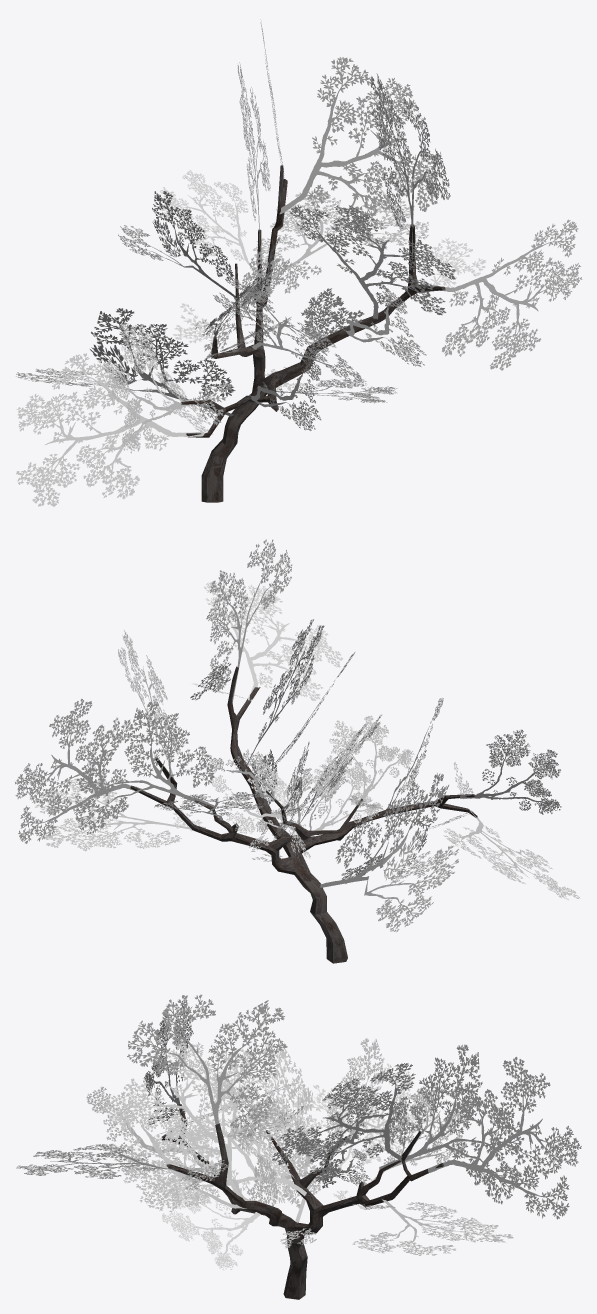
File: CI_Tree_SlantedOak_MOD_v3.fbx
3 views of the same model, one above another, from view 1: azimuth 30°, elevation 25°; view 2: azimuth 150°, elevation 25°; view 3: azimuth 270°, elevation 25° (orthographic). The views are drawn at different scales.
Visible parts, largest first — view 1: Tree_SlantedOak001Backup02, Tree_LiveOak_Branch_03_014Backup02, Tree_LiveOak_Branch_03_010Backup02, Tree_LiveOak_Branch_03_012Backup02, Tree_LiveOak_Branch_03_013Backup02, Tree_LiveOak_Branch_01_006Backup02, Tree_LiveOak_Branch_01_010Backup02, Tree_LiveOak_Branch_02_007Backup02, Tree_LiveOak_Branch_01_009Backup02, Tree_LiveOak_Branch_01_007Backup02, Tree_LiveOak_Branch_03_008Backup02, Tree_LiveOak_Branch_03_009Backup02 (+8 smaller); view 2: Tree_SlantedOak001Backup02, Tree_LiveOak_Branch_01_006Backup02, Tree_LiveOak_Branch_01_008Backup02, Tree_LiveOak_Branch_03_011Backup02, Tree_LiveOak_Branch_03_012Backup02, Tree_LiveOak_Branch_01_010Backup02, Tree_LiveOak_Branch_01_009Backup02, Tree_LiveOak_Branch_02_007Backup02, Tree_LiveOak_Branch_02_005Backup02, Tree_LiveOak_Branch_03_014Backup02, Tree_LiveOak_Branch_02_006Backup02, Tree_LiveOak_Branch_03_013Backup02 (+9 smaller); view 3: Tree_LiveOak_Branch_03_011Backup02, Tree_LiveOak_Branch_01_010Backup02, Tree_LiveOak_Branch_03_013Backup02, Tree_SlantedOak001Backup02, Tree_LiveOak_Branch_01_008Backup02, Tree_LiveOak_Branch_03_010Backup02, Tree_LiveOak_Branch_01_006Backup02, Tree_LiveOak_Branch_03_008Backup02, Tree_LiveOak_Branch_04_007Backup02, Tree_LiveOak_Branch_01_009Backup02, Tree_LiveOak_Branch_01_007Backup02, Tree_LiveOak_Branch_02_008Backup02 (+12 smaller).
Part boxes in pixels (x1,y1,x2,y2): Tree_SlantedOak001Backup02: (180,165,445,502); Tree_LiveOak_Branch_03_014Backup02: (16,353,204,506); Tree_LiveOak_Branch_03_010Backup02: (279,57,442,241); Tree_LiveOak_Branch_03_012Backup02: (430,219,582,370); Tree_LiveOak_Branch_03_013Backup02: (290,205,455,319); Tree_LiveOak_Branch_01_006Backup02: (16,308,235,416); Tree_LiveOak_Branch_01_010Backup02: (370,73,450,260); Tree_LiveOak_Branch_02_007Backup02: (104,323,192,453); Tree_LiveOak_Branch_01_009Backup02: (253,189,428,279); Tree_LiveOak_Branch_01_007Backup02: (118,191,235,297); Tree_LiveOak_Branch_03_008Backup02: (213,276,361,381); Tree_LiveOak_Branch_03_009Backup02: (159,169,257,274); Tree_SlantedOak001Backup02: (130,666,477,963); Tree_LiveOak_Branch_01_006Backup02: (320,773,458,932); Tree_LiveOak_Branch_01_008Backup02: (73,701,214,834); Tree_LiveOak_Branch_03_011Backup02: (15,698,141,843); Tree_LiveOak_Branch_03_012Backup02: (204,582,342,701); Tree_LiveOak_Branch_01_010Backup02: (206,539,292,702); Tree_LiveOak_Branch_01_009Backup02: (35,777,191,851); Tree_LiveOak_Branch_02_007Backup02: (460,729,561,814); Tree_LiveOak_Branch_02_005Backup02: (329,715,414,807); Tree_LiveOak_Branch_03_014Backup02: (443,810,580,899); Tree_LiveOak_Branch_02_006Backup02: (310,755,382,830); Tree_LiveOak_Branch_03_013Backup02: (246,619,324,765); Tree_LiveOak_Branch_03_011Backup02: (428,1056,581,1219); Tree_LiveOak_Branch_01_010Backup02: (127,994,287,1137); Tree_LiveOak_Branch_03_013Backup02: (114,1039,258,1197); Tree_SlantedOak001Backup02: (162,1104,443,1299); Tree_LiveOak_Branch_01_008Backup02: (379,1044,524,1204); Tree_LiveOak_Branch_03_010Backup02: (272,1063,415,1181); Tree_LiveOak_Branch_01_006Backup02: (257,1040,401,1222); Tree_LiveOak_Branch_03_008Backup02: (163,1062,306,1205); Tree_LiveOak_Branch_04_007Backup02: (103,1091,256,1212); Tree_LiveOak_Branch_01_009Backup02: (352,1199,513,1255); Tree_LiveOak_Branch_01_007Backup02: (326,1038,434,1157); Tree_LiveOak_Branch_02_008Backup02: (157,1177,260,1270).
Bounding box in the file's own units: 692 × 533 × 748.
